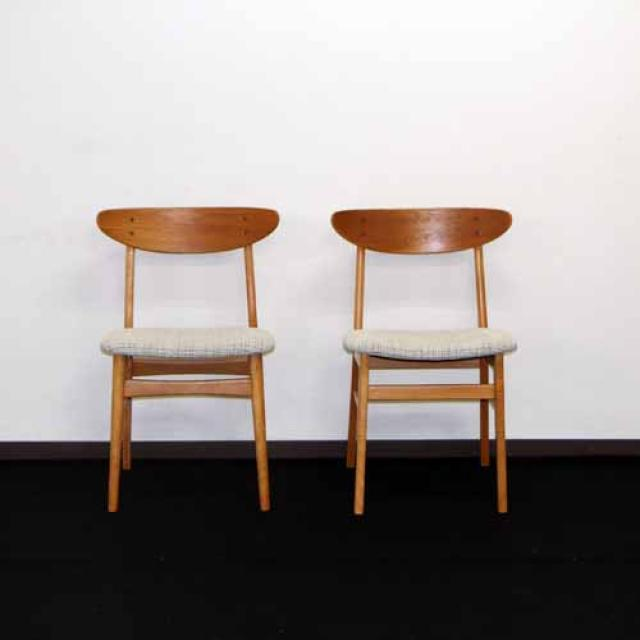chair vintage: (324, 202, 519, 519), (88, 203, 275, 517)
